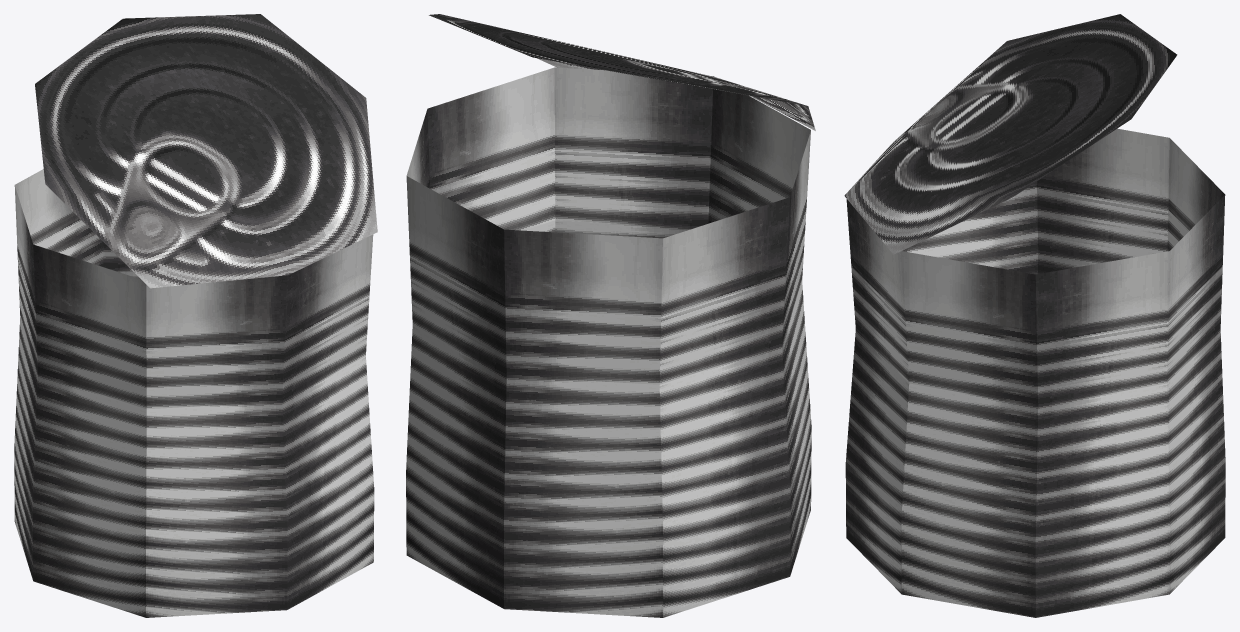
File: tincan.glb
The picture shows the model from 3 angles, left to right: view 1: azimuth 30°, elevation 25°; view 2: azimuth 150°, elevation 25°; view 3: azimuth 270°, elevation 25°; orthographic projection. The views are drawn at different scales.
Parts seen in each view (by area): view 1: Tincan; view 2: Tincan; view 3: Tincan.
Boxes of the visible parts, x1=… form: Tincan: x1=14, y1=14, x2=377, y2=617; Tincan: x1=406, y1=14, x2=815, y2=617; Tincan: x1=844, y1=14, x2=1225, y2=617.
Bounding box in the file's own units: 1.18 × 1.64 × 1.17.
Materials: 1 (1 with a texture image).
